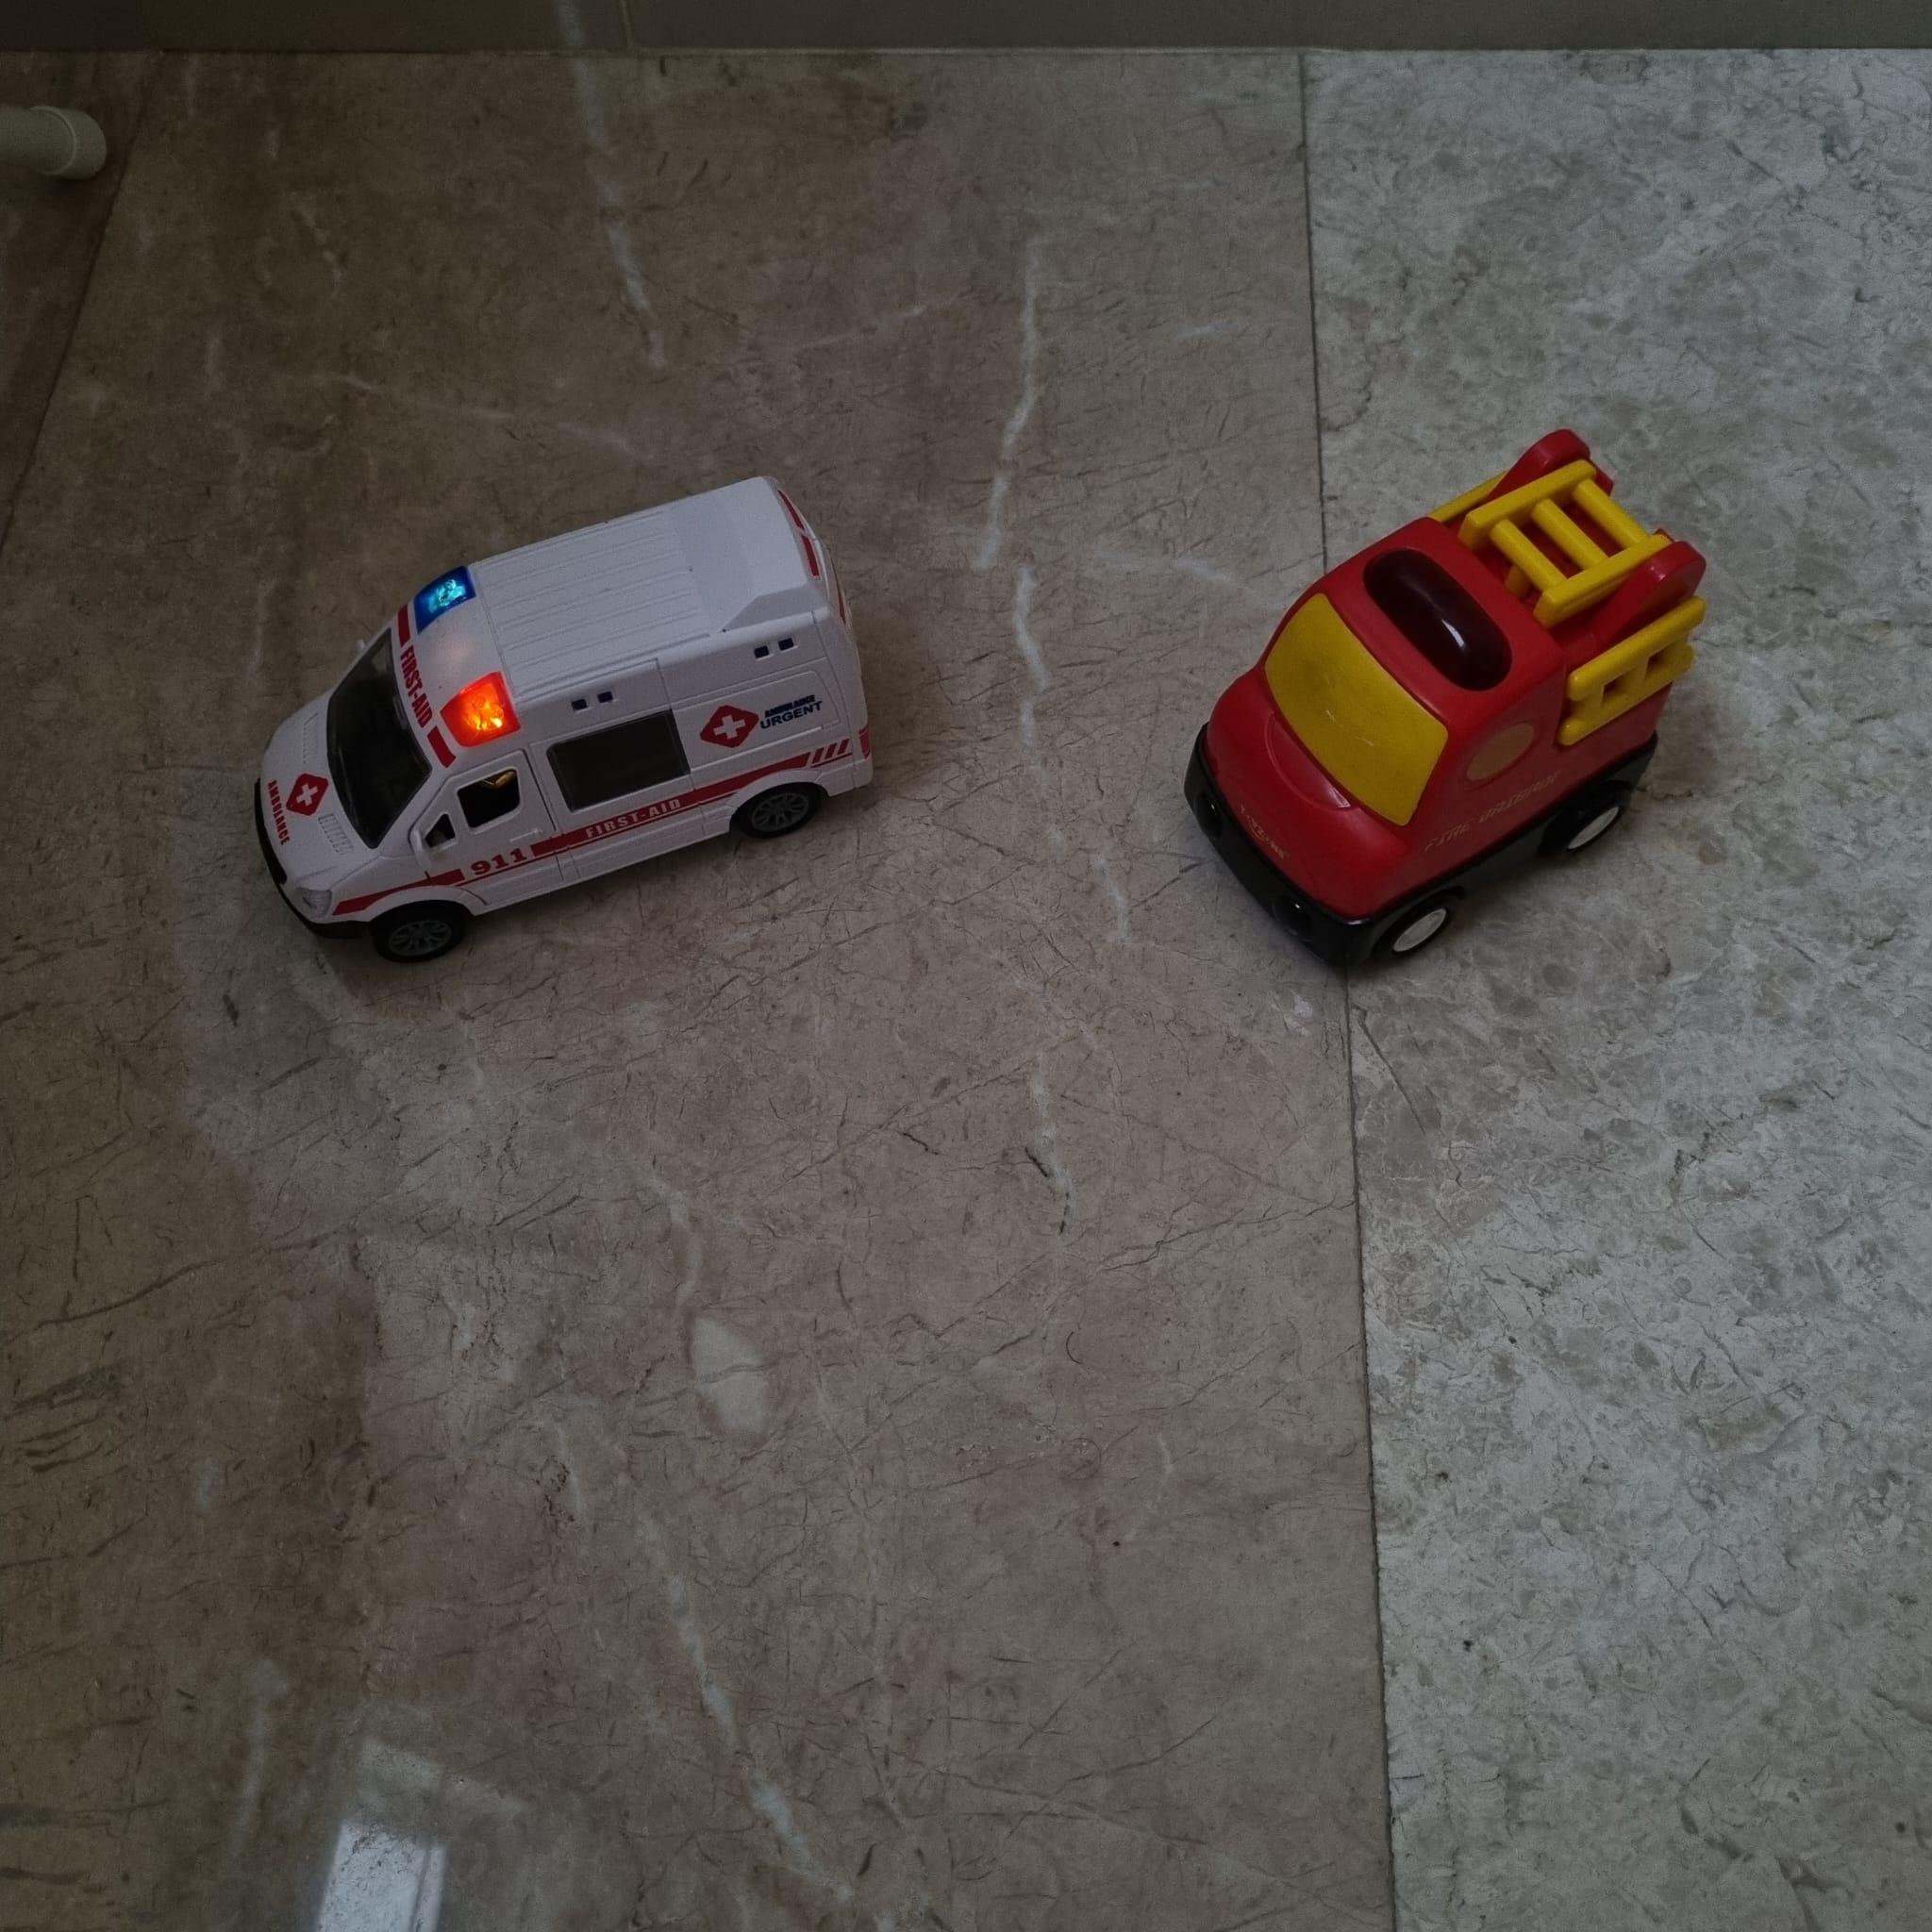ambulance_on: (249, 474, 878, 961)
firetruck_off: (1184, 428, 1706, 977)
